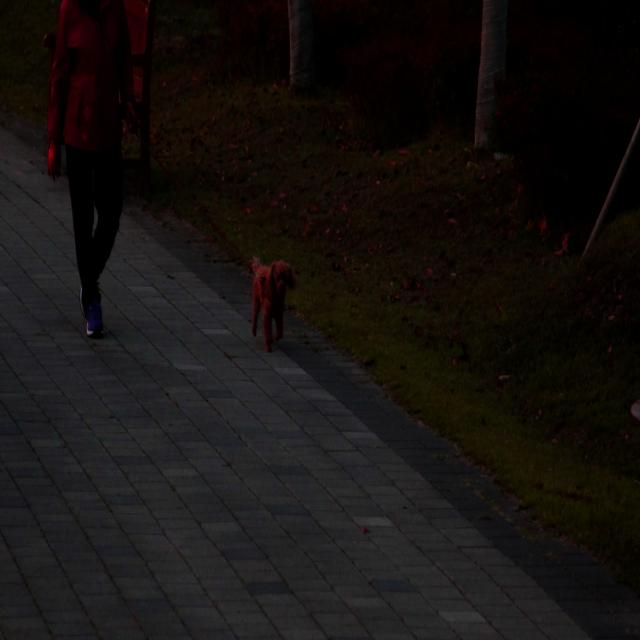Leashed_Dog: (103, 102, 298, 351)
